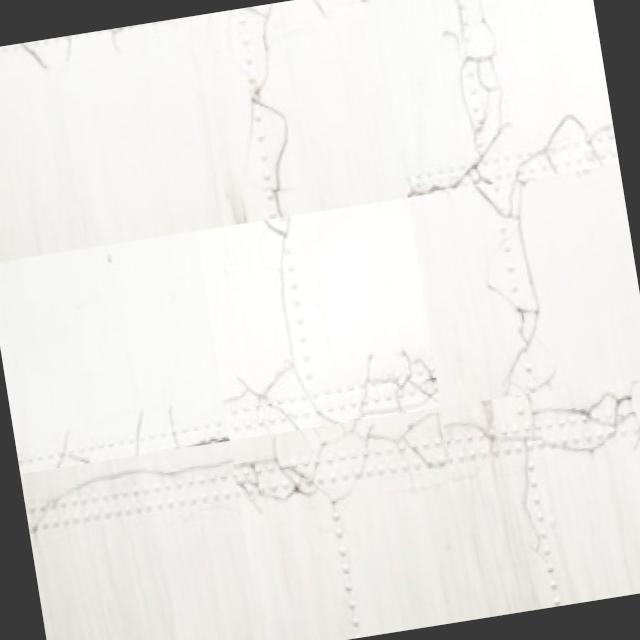crack: (23, 380, 640, 544), (425, 0, 593, 573), (218, 335, 454, 444), (226, 3, 319, 222), (122, 400, 190, 458), (39, 422, 97, 475)
